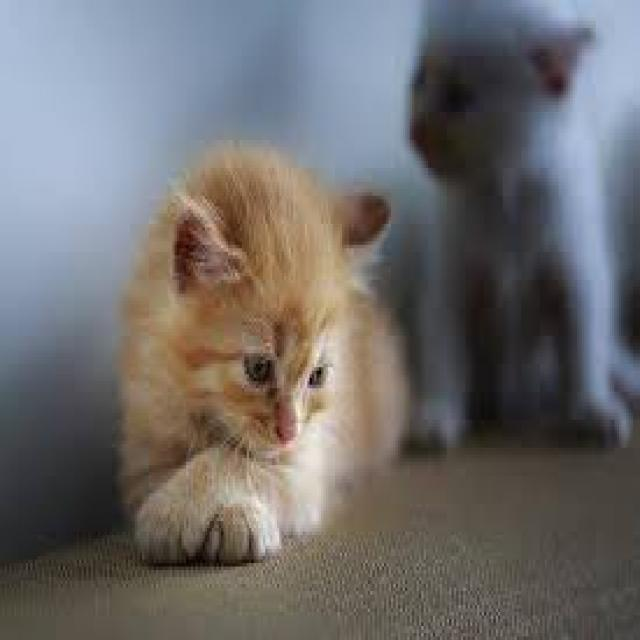Cat: (112, 139, 410, 567)
